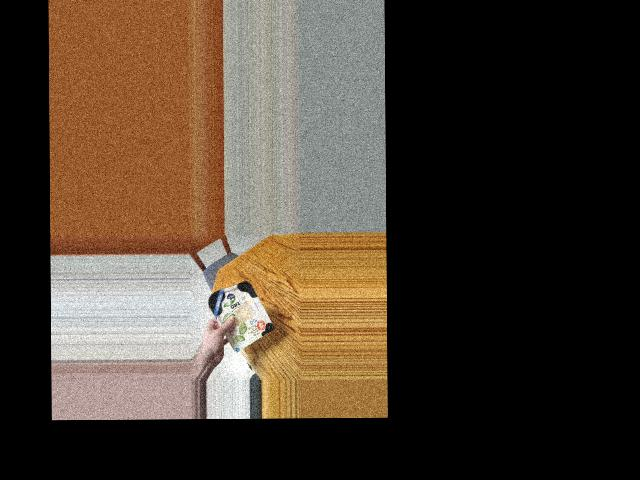cheese: (209, 282, 270, 344)
